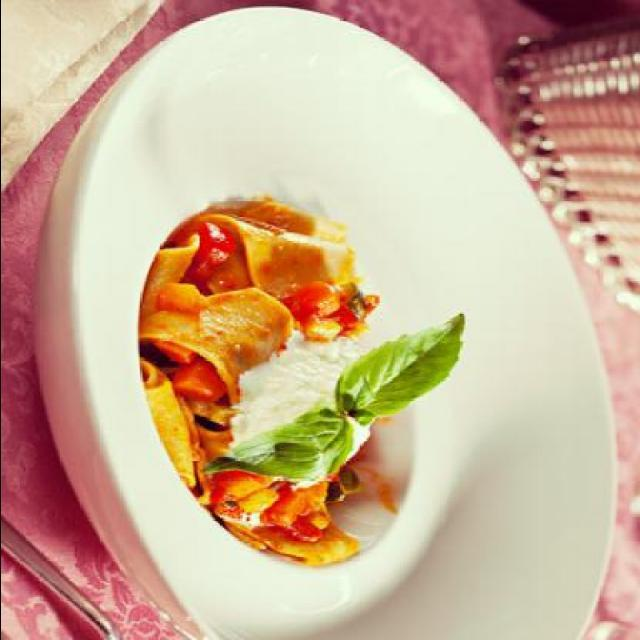Pasta al ragu: (113, 161, 470, 625)
